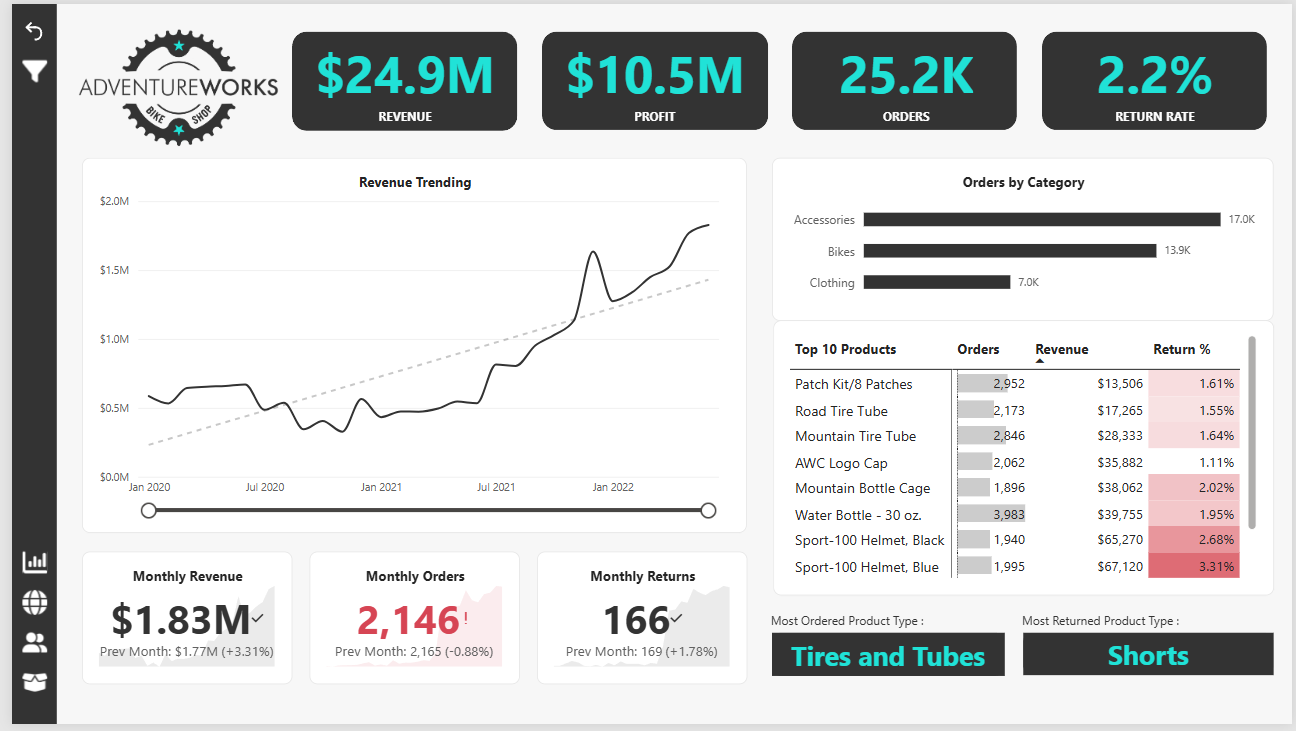

Layout of this report page (visuals, bound fields, positions):
{"tool":"powerbi","page":{"name":"Exec Dashboard","canvas":[1280,720],"ordinal":0},"visuals":[{"type":"image","title":"AW Logo","box":[44.6,13.3,243.7,139.9],"z":0},{"type":"shape","box":[280.4,27.5,225.3,99.5],"z":0,"group":"g2"},{"type":"actionButton","box":[0,538.8,45,40],"z":0,"group":"g4"},{"type":"shape","title":"Left Nav Background","box":[0,0,45,720],"z":1000},{"type":"shape","box":[780.6,27.5,225,98.8],"z":1000,"group":"g2"},{"type":"actionButton","box":[0,578.8,45,40],"z":1000,"group":"g4"},{"type":"group","id":"g1","title":"KPIs","box":[277.5,25,981.2,105],"z":2000},{"type":"group","id":"g2","title":"KPI Backgrounds","box":[280.4,27.5,974.6,99.5],"z":2000,"group":"g1"},{"type":"shape","box":[1030,27.5,225,98.8],"z":2000,"group":"g2"},{"type":"actionButton","box":[0,618.8,45,40],"z":2000,"group":"g4"},{"type":"cardVisual","fields":{"Data":["Measure Table.Total Revenue"]},"box":[277.5,25,231.2,105],"z":3000,"group":"g3"},{"type":"shape","box":[530,27.5,226.2,98.8],"z":3000,"group":"g2"},{"type":"lineChart","title":"Revenue Trending","fields":{"Category":["Calendar Lookup.Year","Calendar Lookup.Start of Quarter","Calendar Lookup.Start of Month"],"Y":["Measure Table.Total Revenue"]},"box":[70,153.2,664.7,375.2],"z":3000},{"type":"actionButton","box":[0,658.8,45,40],"z":3000,"group":"g4"},{"type":"cardVisual","fields":{"Data":["Measure Table.Total Profit"]},"box":[527.5,25,231.2,105],"z":4000,"group":"g3"},{"type":"kpi","title":"Monthly Revenue","fields":{"Goal":["Measure Table.Previous Month Revenue"],"Indicator":["Measure Table.Total Revenue"],"TrendLine":["Calendar Lookup.Start of Month"]},"box":[69.6,547.8,210,132.5],"z":4000},{"type":"cardVisual","fields":{"Data":["Measure Table.Total Orders"]},"box":[778.7,25,231.2,105],"z":5000,"group":"g3"},{"type":"kpi","title":"Monthly Orders","fields":{"Goal":["Measure Table.Previous Month Orders"],"Indicator":["Measure Table.Total Orders"],"TrendLine":["Calendar Lookup.Start of Month"]},"box":[297.1,547.8,210,132.5],"z":5000},{"type":"cardVisual","fields":{"Data":["Measure Table.Return Rate"]},"box":[1027.5,25,231.2,105],"z":6000,"group":"g3"},{"type":"kpi","title":"Monthly Returns","fields":{"Goal":["Measure Table.Previous Month Returns"],"Indicator":["Measure Table.Total Returns"],"TrendLine":["Calendar Lookup.Start of Month"]},"box":[524.6,547.8,210,132.5],"z":6000},{"type":"group","id":"g3","title":"KPI Values","box":[277.5,25,981.2,105],"z":6001,"group":"g1"},{"type":"clusteredBarChart","title":"Orders by Category","fields":{"Category":["Product Categories Lookup.CategoryName"],"Y":["Measure Table.Total Orders"]},"box":[760.1,153.2,501.9,162.9],"z":7000},{"type":"pivotTable","fields":{"Rows":["Product Lookup.ProductName"],"Values":["Measure Table.Total Orders","Measure Table.Total Revenue","Measure Table.Return Rate"]},"box":[761.3,316.1,500.7,275.1],"z":8000},{"type":"cardVisual","fields":{"Data":["Min(Product Subcategories Lookup.SubcategoryName)"]},"box":[760.1,628.6,232.8,43.4],"z":9000},{"type":"textbox","box":[758.9,606.8,174.9,21.7],"z":10000},{"type":"textbox","box":[1009.8,606.8,178.6,21.7],"z":11000},{"type":"cardVisual","fields":{"Data":["Min(Product Subcategories Lookup.SubcategoryName)"]},"box":[1011.2,628.6,250.3,42.7],"z":12000},{"type":"actionButton","box":[0,7.2,44.6,39.8],"z":13000},{"type":"group","id":"g4","title":"Navigation Buttons","box":[0,538.8,45,160],"z":14000},{"type":"actionButton","box":[0,47.5,45,40],"z":15000}]}

Visuals, with their boxes on the page's 1280x720 design canvas (x1, y1, x2, y2). These are canvas units, not pixel positions in the 1296x731 screenshot, which may show the page scaled, cropped or inside an application window:
"AW Logo" image: bbox(45, 13, 288, 153)
shape: bbox(280, 28, 506, 127)
actionButton: bbox(0, 539, 45, 579)
"Left Nav Background" shape: bbox(0, 0, 45, 720)
shape: bbox(781, 28, 1006, 126)
actionButton: bbox(0, 579, 45, 619)
"KPIs" group: bbox(278, 25, 1259, 130)
"KPI Backgrounds" group: bbox(280, 28, 1255, 127)
shape: bbox(1030, 28, 1255, 126)
actionButton: bbox(0, 619, 45, 659)
cardVisual - Measure Table.Total Revenue: bbox(278, 25, 509, 130)
shape: bbox(530, 28, 756, 126)
"Revenue Trending" lineChart: bbox(70, 153, 735, 528)
actionButton: bbox(0, 659, 45, 699)
cardVisual - Measure Table.Total Profit: bbox(528, 25, 759, 130)
"Monthly Revenue" kpi: bbox(70, 548, 280, 680)
cardVisual - Measure Table.Total Orders: bbox(779, 25, 1010, 130)
"Monthly Orders" kpi: bbox(297, 548, 507, 680)
cardVisual - Measure Table.Return Rate: bbox(1028, 25, 1259, 130)
"Monthly Returns" kpi: bbox(525, 548, 735, 680)
"KPI Values" group: bbox(278, 25, 1259, 130)
"Orders by Category" clusteredBarChart: bbox(760, 153, 1262, 316)
pivotTable - Product Lookup.ProductName x Measure Table.Total Orders: bbox(761, 316, 1262, 591)
cardVisual - Min(Product Subcategories Lookup.SubcategoryName): bbox(760, 629, 993, 672)
textbox: bbox(759, 607, 934, 628)
textbox: bbox(1010, 607, 1188, 628)
cardVisual - Min(Product Subcategories Lookup.SubcategoryName): bbox(1011, 629, 1262, 671)
actionButton: bbox(0, 7, 45, 47)
"Navigation Buttons" group: bbox(0, 539, 45, 699)
actionButton: bbox(0, 48, 45, 88)
